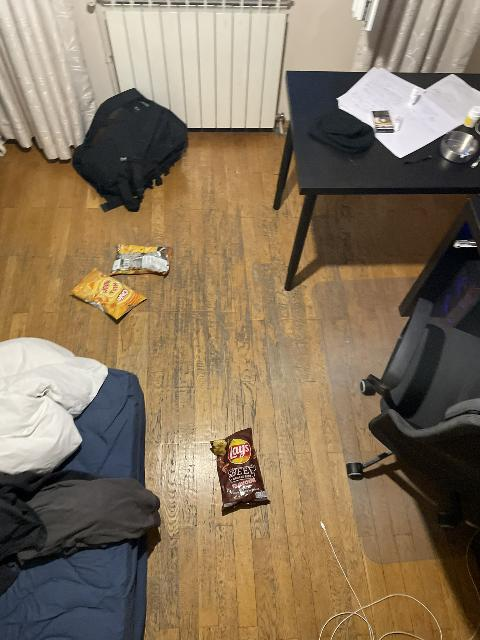Chio Cascaval 125g: (110, 243, 172, 277)
Chio Hula Hoops Cheese 70g: (71, 267, 149, 320)
Lays Beef Grilled Ribs 125g: (213, 426, 272, 512)
